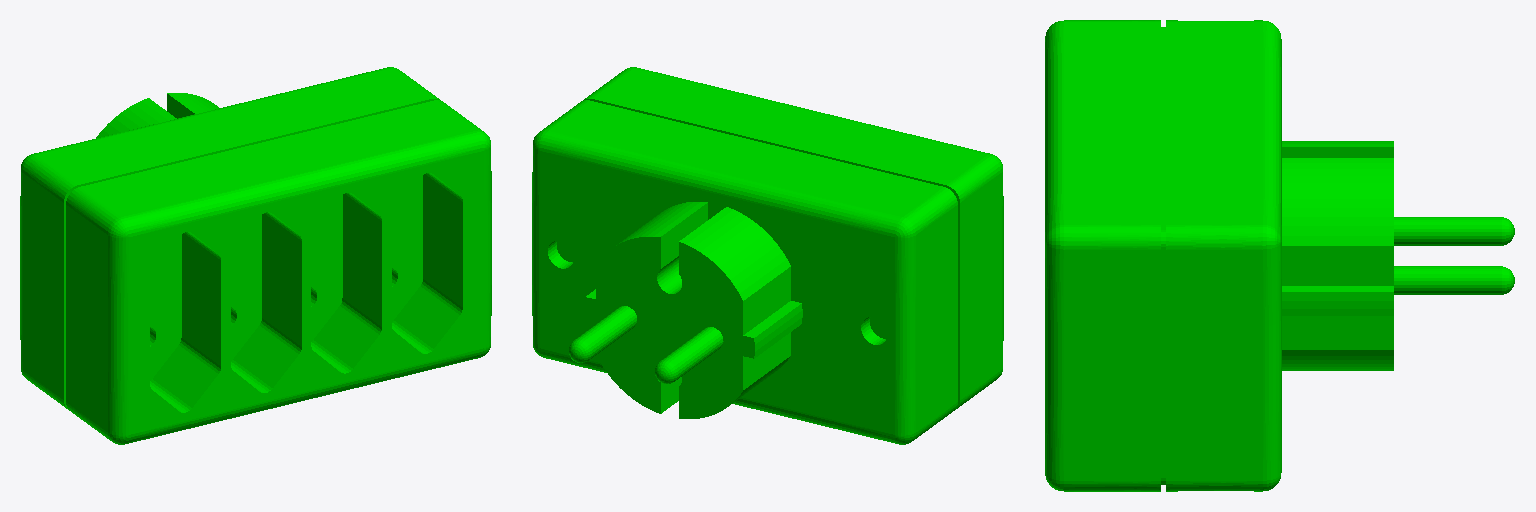
URDF robot description (obj_000020):
<?xml version="1.0" ?>
<robot name="obj_000020">
   <link name="base_link">
      <visual>
         <geometry>
            <mesh filename="package://agimus_demo_05_pick_and_place/urdf/tless/obj_20.obj" scale="0.001 0.001 0.001"/>
         </geometry>
         <material name="mat_part0">
            <color rgba="0.0 0.9 0.0 1.0"/>
         </material>
      </visual>
      <collision>
         <geometry>
            <mesh filename="package://agimus_demo_05_pick_and_place/urdf/tless/obj_20.obj" scale="0.001 0.001 0.001"/>
         </geometry>
      </collision>
      <inertial>
         <origin rpy="0 0 0" xyz="0.0 0.0 0.0"/>
         <mass value="0.1"/>
         <inertia ixx="1" ixy="0" ixz="0" iyy="1" iyz="0" izz="1"/>
      </inertial>
   </link>
</robot>

--- Render facts (derived) ---
The picture shows the robot from 3 angles, left to right: view 1: azimuth 30°, elevation 25°; view 2: azimuth 150°, elevation 25°; view 3: azimuth 270°, elevation 25°; orthographic projection.
Model obj_000020 with 1 links and 0 joints (none), rooted at base_link, posed all joints at 0.
Links seen in each view (by area): view 1: base_link; view 2: base_link; view 3: base_link.
Boxes of the visible links, x1,y1,x2,y2 form: base_link: (20,67,491,444); base_link: (532,67,1003,444); base_link: (1045,20,1514,491).
Bounding box of the posed robot: 0.083 × 0.0755 × 0.047 m (x, y, z).
1 mesh visuals loaded from 1 distinct referenced files (1 OBJ).
